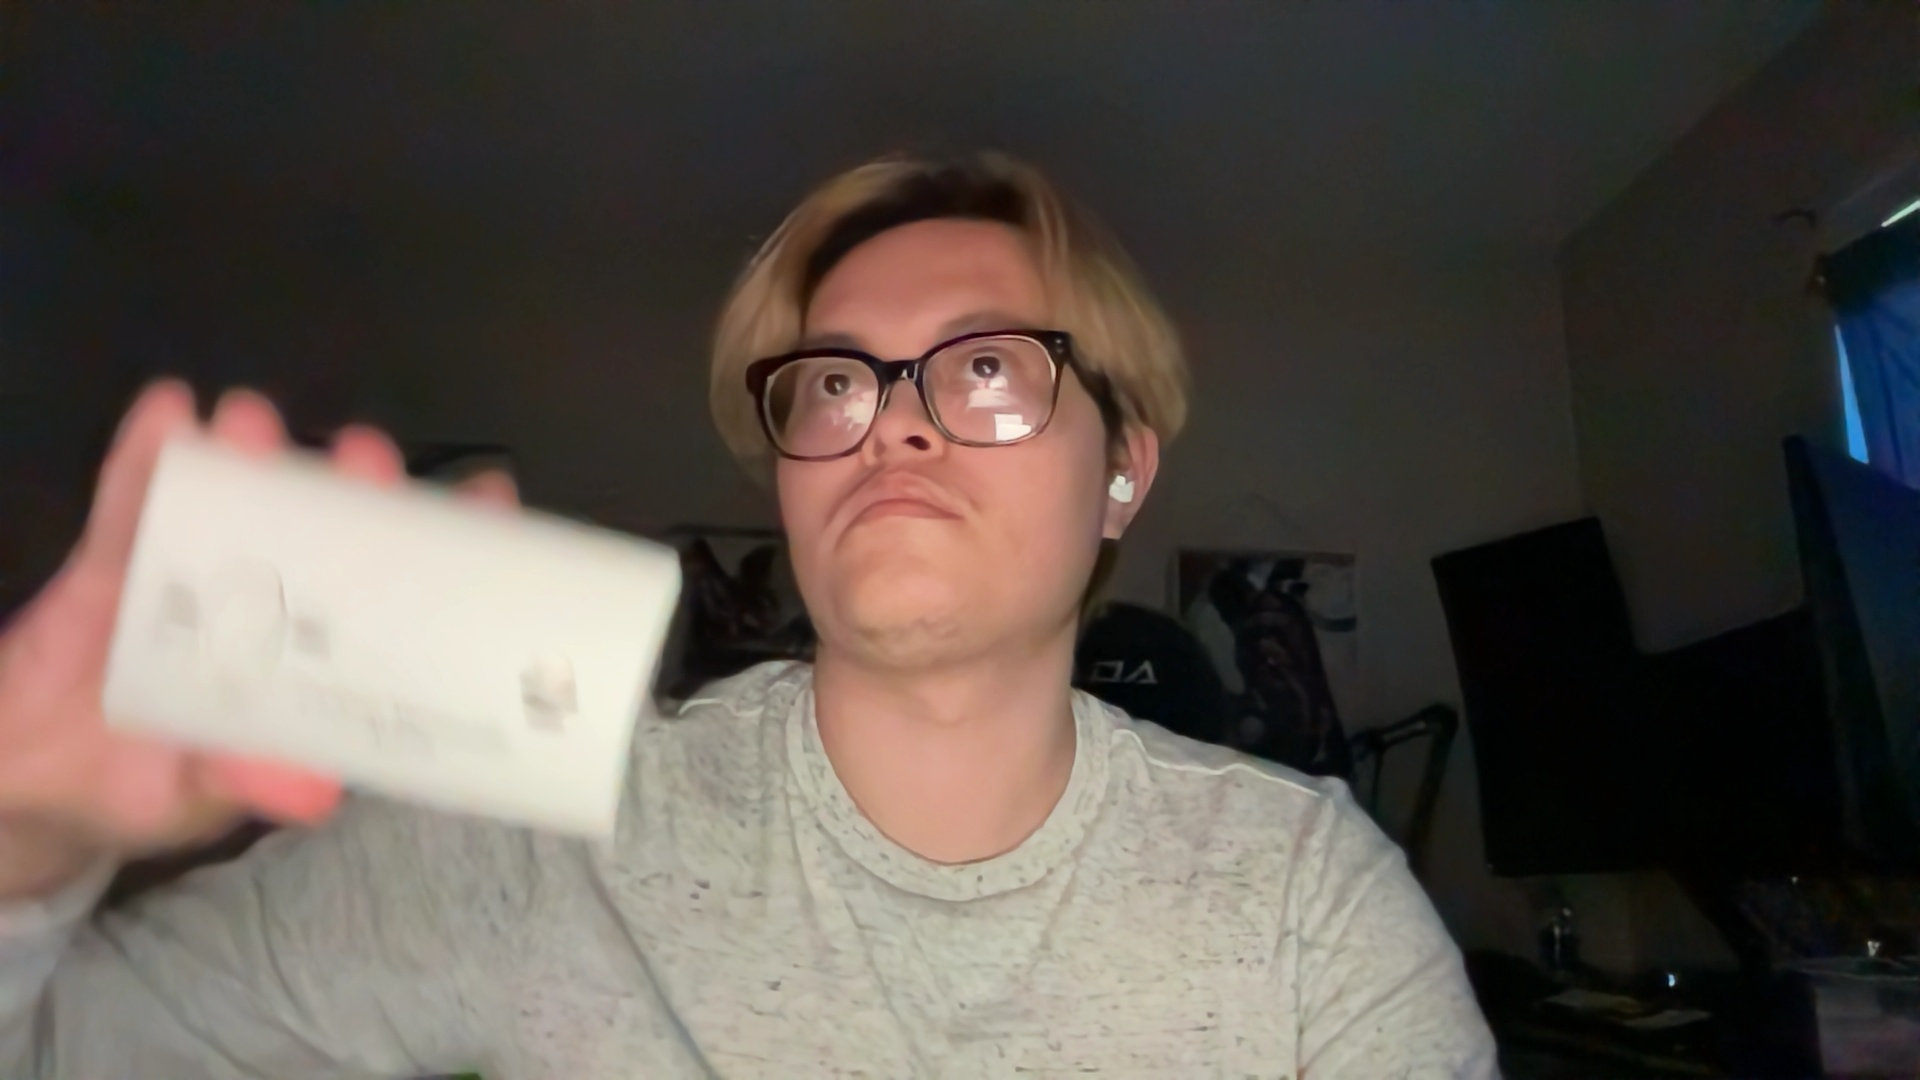carbonmonitor: (96, 410, 680, 857)
